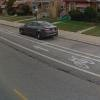Car: (13, 15, 64, 43)
